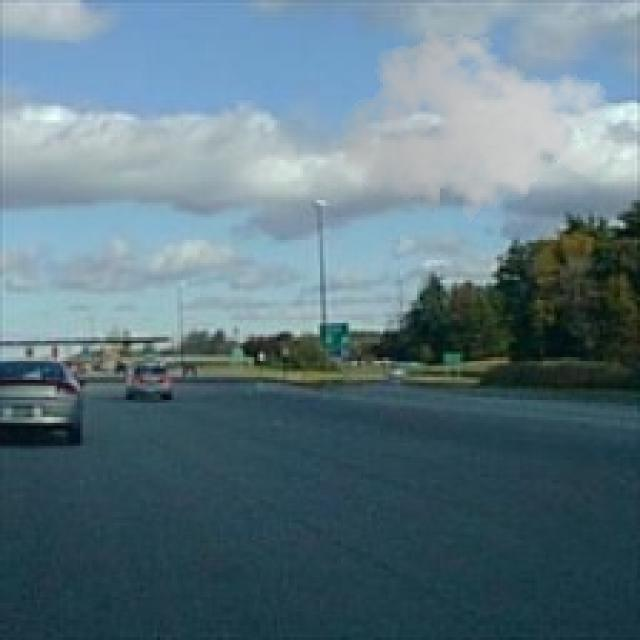smoke: (337, 23, 612, 231)
